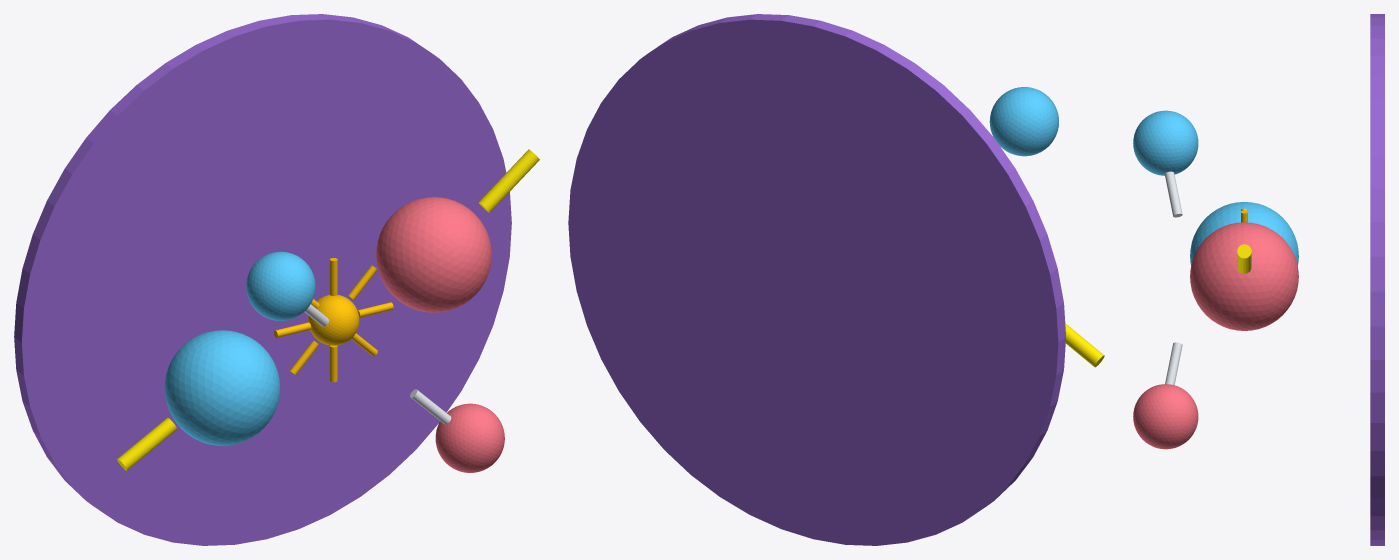
The model's file is modelo.glb.
3 views of the same model, side by side, from view 1: azimuth 30°, elevation 25°; view 2: azimuth 150°, elevation 25°; view 3: azimuth 270°, elevation 25° (orthographic). The views are drawn at different scales.
Parts seen in each view (by area): view 1: base, particula_B, particula_A, A_apos_colisao, B_apos_colisao, choque_sem_reacao, trajetoria_B, trajetoria_A; view 2: base, A_apos_colisao, trajetoria_A; view 3: particula_B, base, B_apos_colisao, A_apos_colisao, particula_A, afastamento_A, afastamento_B, trajetoria_B.
Boxes of the visible parts, x1,y1,x2,y2 form: base: (14,14,511,545); particula_B: (376,197,491,312); particula_A: (164,330,280,445); A_apos_colisao: (246,251,315,320); B_apos_colisao: (435,403,504,472); choque_sem_reacao: (308,294,359,345); trajetoria_B: (478,149,539,212); trajetoria_A: (117,417,177,470); base: (568,14,1065,545); A_apos_colisao: (989,87,1058,156); trajetoria_A: (1065,323,1104,367); particula_B: (1190,222,1298,330); base: (1370,14,1384,545); B_apos_colisao: (1133,384,1198,449); A_apos_colisao: (1133,110,1198,175); particula_A: (1190,202,1298,265); afastamento_A: (1164,171,1182,217); afastamento_B: (1165,342,1182,384); trajetoria_B: (1237,244,1251,273).
Bounding box in the file's own units: 0.44 × 0.44 × 0.208.
